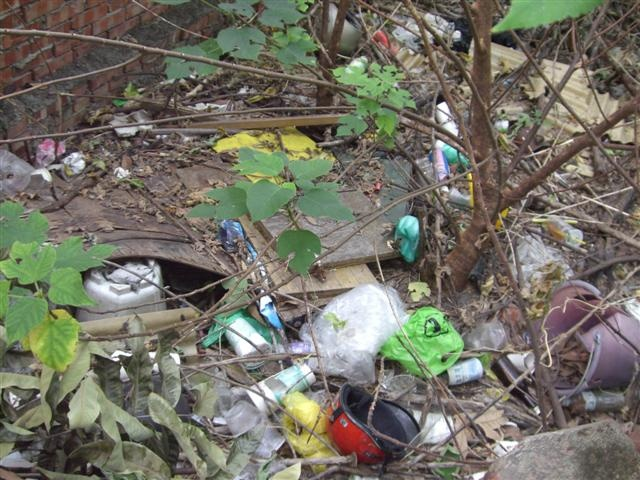bottle: (245, 361, 317, 419), (222, 316, 274, 371), (560, 386, 628, 414), (544, 214, 585, 250), (445, 358, 484, 386)
bucket: (536, 279, 640, 400)
plastic_bag: (301, 283, 408, 380)
